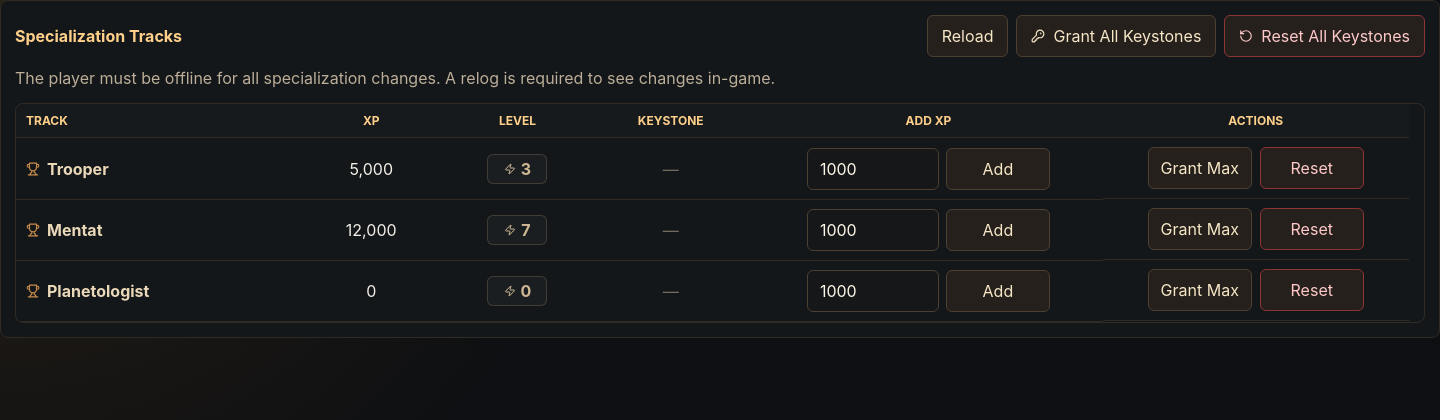
Test: SpecializationTab › keystone action feedback › reports how many keystones were reset
Expected: the text "Trooper" is shown, [26,159,109,179]
Click the button "Reset All Keystones": (1325, 36) [1224,15,1425,57]
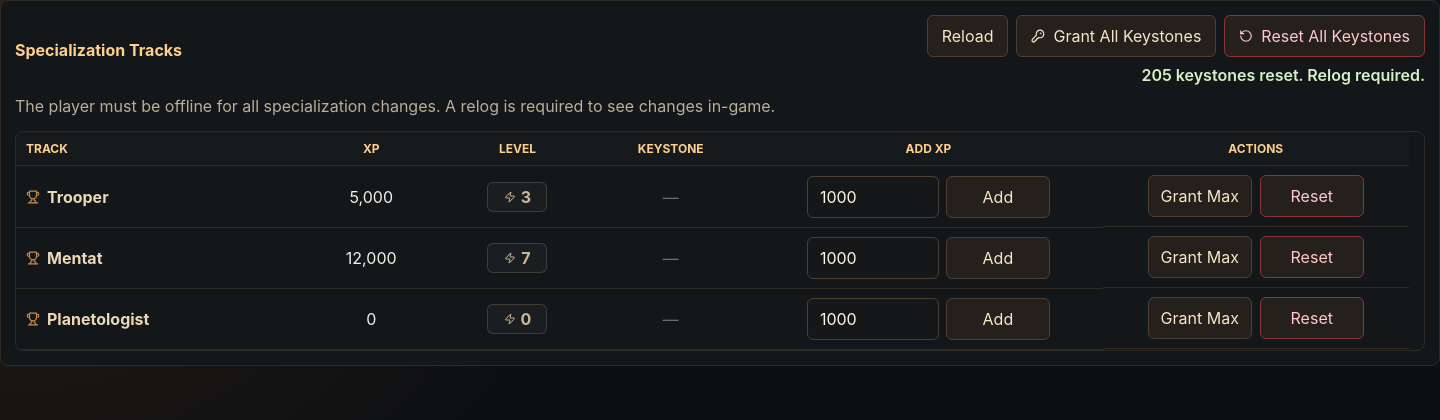
Now the text "205 keystones reset. Relog required." is shown, box [1141,65,1425,85]
